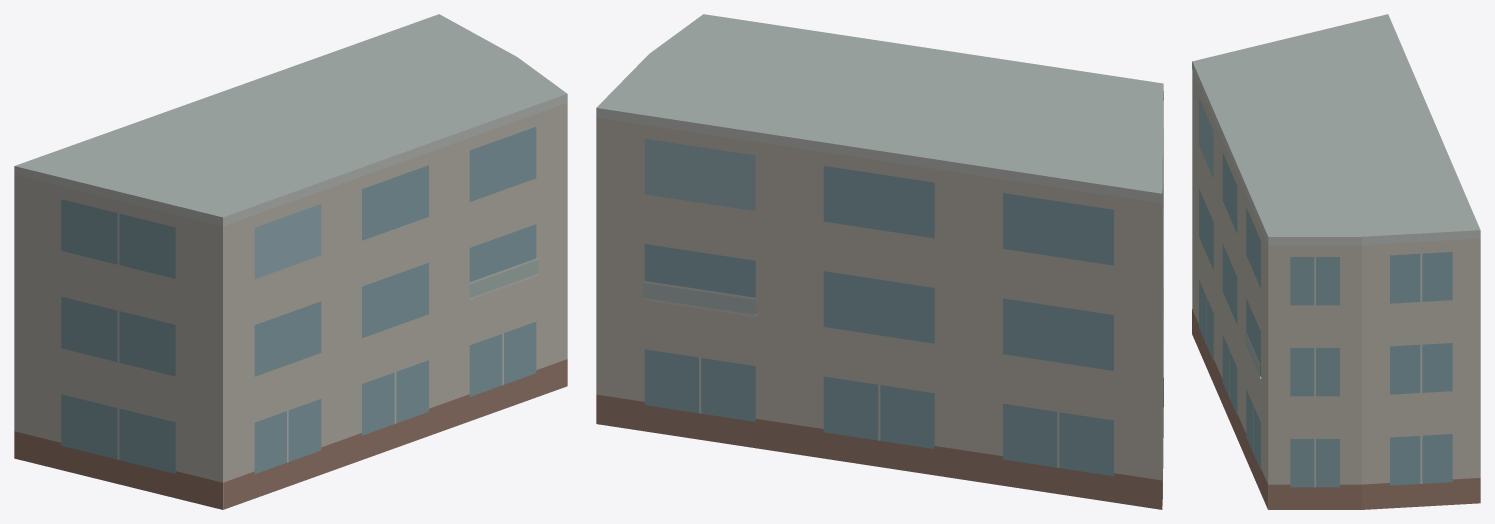
File: survey-upis-33026878.glb
3 views of the same model, side by side, from view 1: azimuth 30°, elevation 25°; view 2: azimuth 150°, elevation 25°; view 3: azimuth 270°, elevation 25° (orthographic). The views are drawn at different scales.
Parts seen in each view (by area): view 1: survey-upis-33026878.tmp; view 2: survey-upis-33026878.tmp; view 3: survey-upis-33026878.tmp.
Part boxes in pixels (bbox=[...]): survey-upis-33026878.tmp: bbox=[14, 14, 567, 509]; survey-upis-33026878.tmp: bbox=[596, 14, 1163, 509]; survey-upis-33026878.tmp: bbox=[1192, 14, 1480, 509].
Size of the model in its own units: 13.93 by 7.95 by 7.62.
